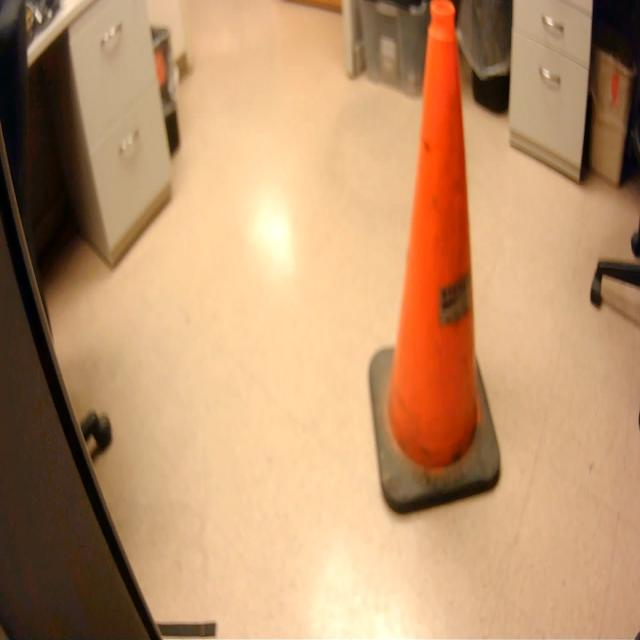traffic cone: (363, 1, 504, 522)
